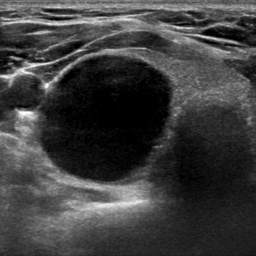mass: (38, 52, 174, 187)
